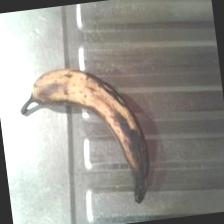Banana Rotten: (22, 51, 159, 214)
